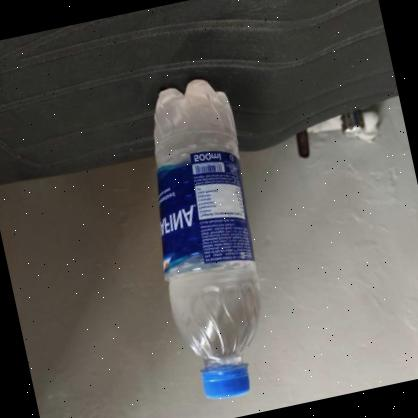bottle: (121, 71, 294, 408)
cap: (194, 357, 258, 405)
label: (140, 145, 263, 278)
